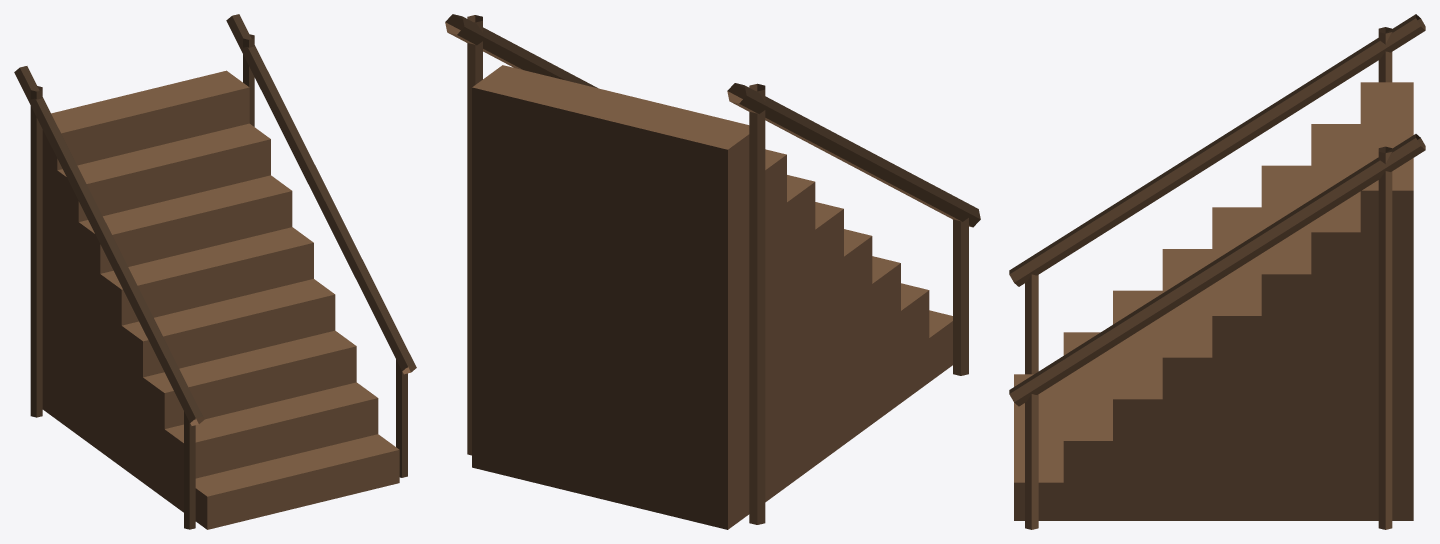
The picture shows the model from 3 angles, left to right: view 1: azimuth 30°, elevation 25°; view 2: azimuth 150°, elevation 25°; view 3: azimuth 270°, elevation 25°; orthographic projection. The views are drawn at different scales.
Visible parts, largest first — view 1: 5644501199d73ffe65a53aa56c2951a0e4d66e09dea33e06eff6cd1af32b; view 2: 5644501199d73ffe65a53aa56c2951a0e4d66e09dea33e06eff6cd1af32b; view 3: 5644501199d73ffe65a53aa56c2951a0e4d66e09dea33e06eff6cd1af32b.
Part boxes in pixels (x1,y1,x2,y2): 5644501199d73ffe65a53aa56c2951a0e4d66e09dea33e06eff6cd1af32b: (14,14,416,529); 5644501199d73ffe65a53aa56c2951a0e4d66e09dea33e06eff6cd1af32b: (445,14,980,529); 5644501199d73ffe65a53aa56c2951a0e4d66e09dea33e06eff6cd1af32b: (1009,14,1425,529).
Size of the model in its own units: 1.71 by 2.44 by 2.35.
